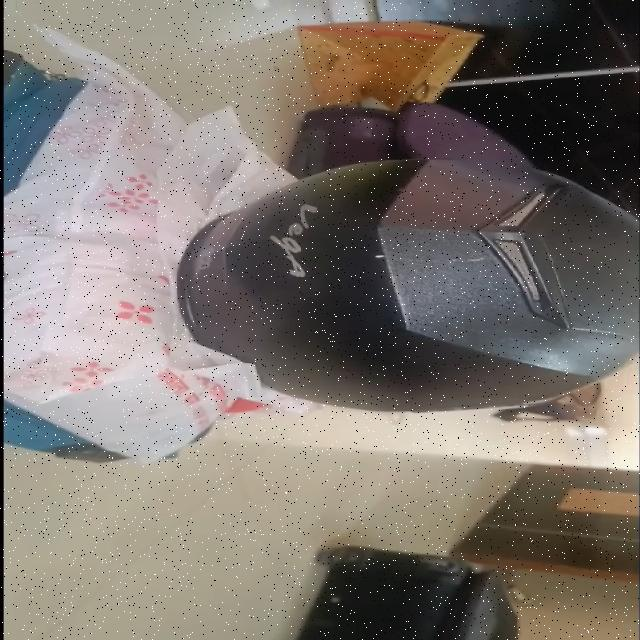Helmet: (173, 155, 633, 414)
